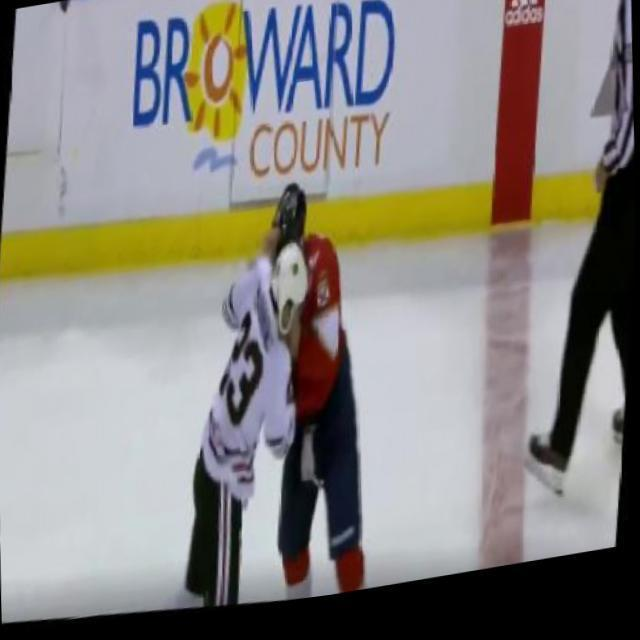fight: (170, 166, 404, 622)
